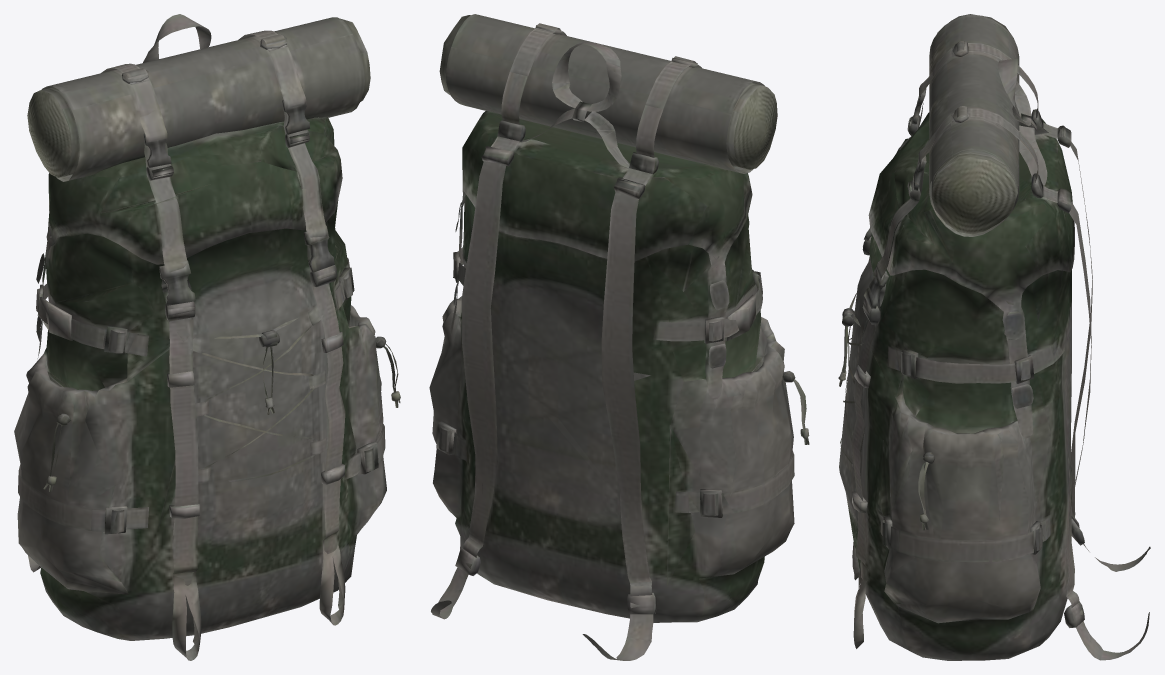
The model's file is skyways-d-of-backpack.glb.
The picture shows the model from 3 angles, left to right: view 1: azimuth 30°, elevation 25°; view 2: azimuth 150°, elevation 25°; view 3: azimuth 270°, elevation 25°; orthographic projection. The views are drawn at different scales.
Parts seen in each view (by area): view 1: skyways-d-of-backpack; view 2: skyways-d-of-backpack; view 3: skyways-d-of-backpack.
Boxes of the visible parts, x1,y1,x2,y2 form: skyways-d-of-backpack: [14, 14, 400, 660]; skyways-d-of-backpack: [429, 14, 809, 660]; skyways-d-of-backpack: [838, 14, 1150, 660].
Size of the model in its own units: 0.5236 by 0.8 by 0.41.
1 material, 1 textured.
